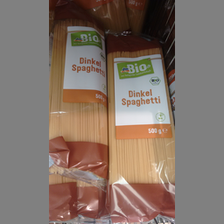pasta: (106, 31, 175, 223), (50, 9, 106, 190)
